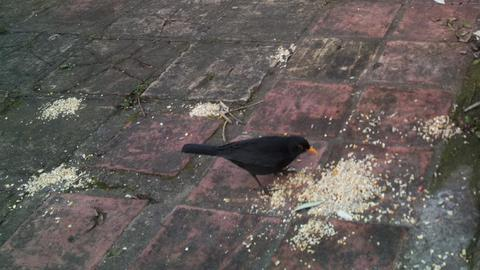blackbird: (180, 134, 320, 198)
